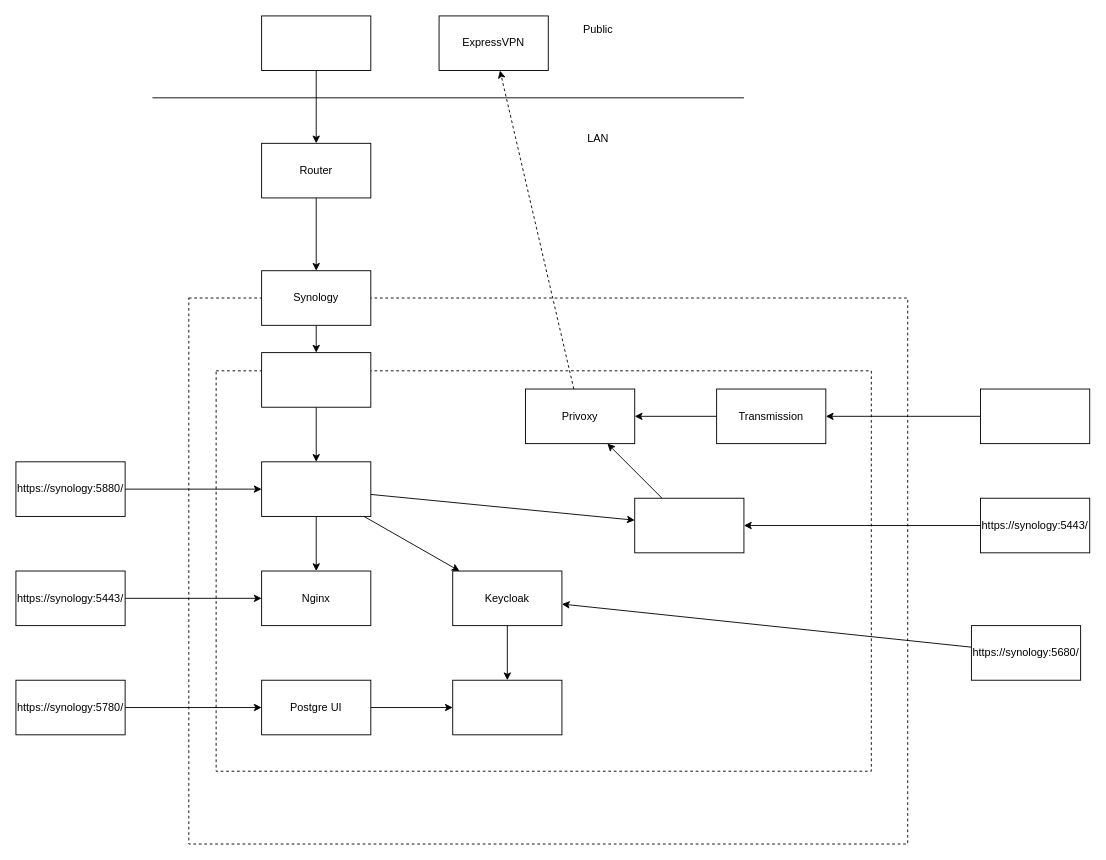
This 1106x860 diagram has some shape labels left out. Here are the shapes that lost their labels. From the top down, the centre of each, then its label:
At pixel 316 43: "ISP".
At pixel 316 379: "Docker".
At pixel 1035 416: "https://synology:5191/".
At pixel 316 488: "Traefik".
At pixel 689 525: "Proxy Browser".
At pixel 507 707: "Postgres".
